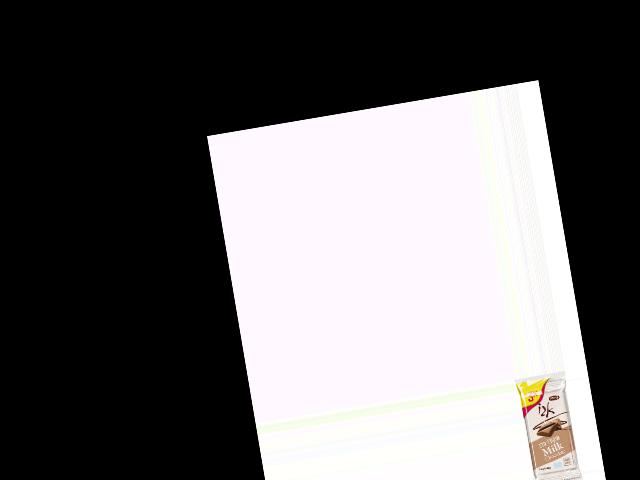chocolate: (514, 370, 583, 480)
